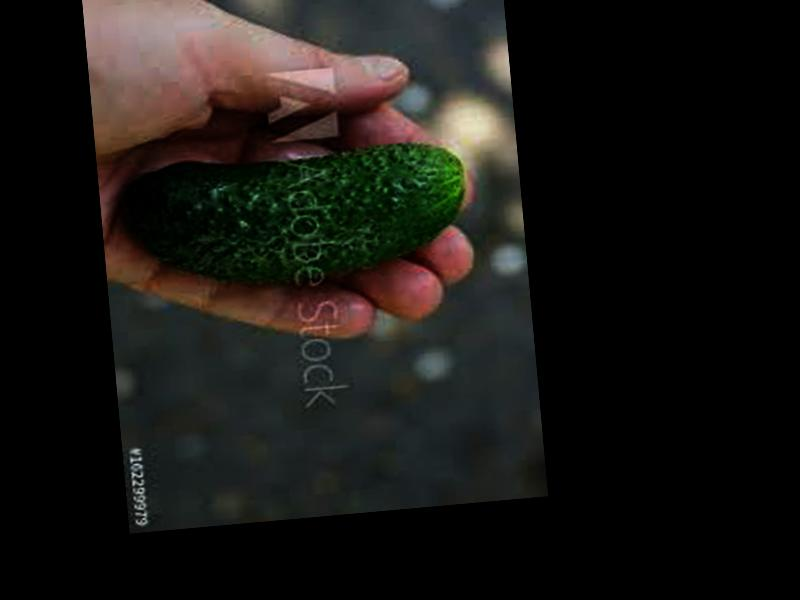Cucumber: (122, 138, 469, 298)
